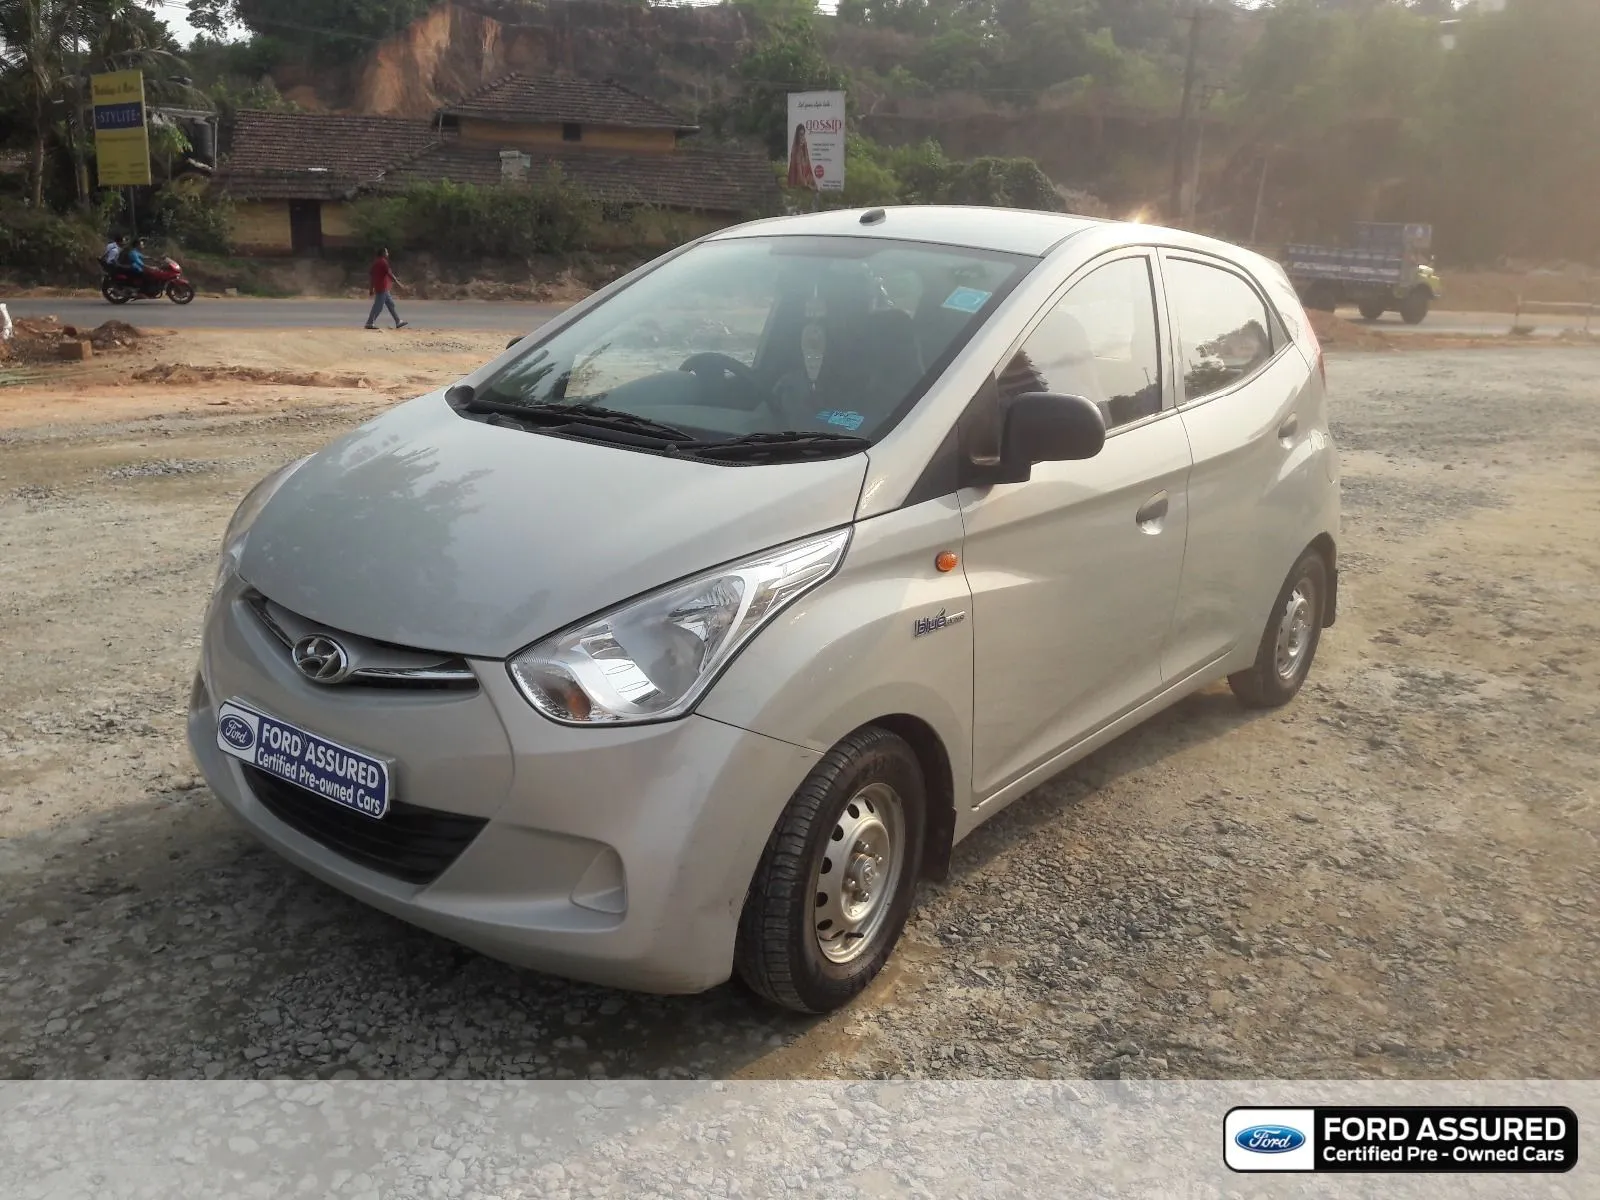eon: (171, 188, 1374, 1026)
